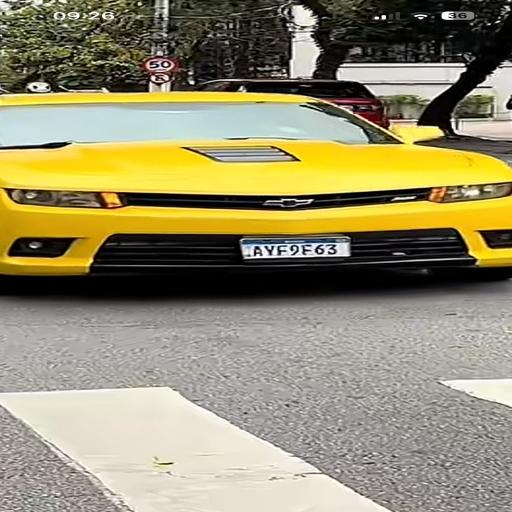detec-o-placas: (128, 206, 450, 286)
